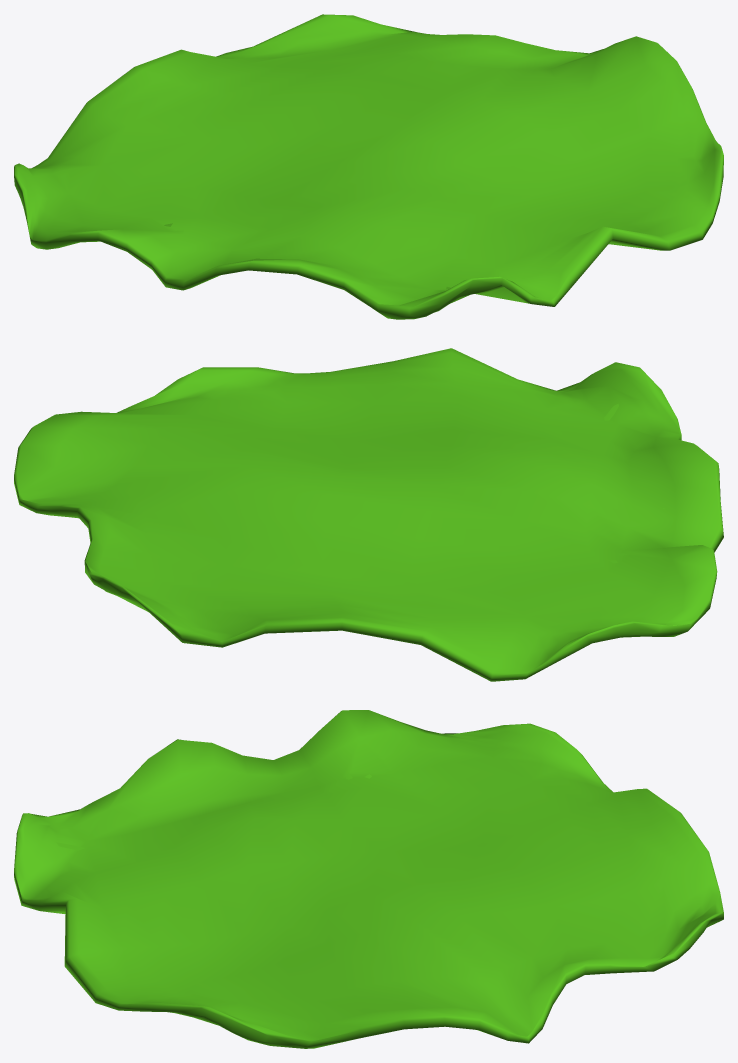
Rendered from salat.fbx.
3 renders of one model, top to bottom at view 1: azimuth 30°, elevation 25°; view 2: azimuth 150°, elevation 25°; view 3: azimuth 270°, elevation 25°, orthographic. The views are drawn at different scales.
Visible parts, largest first — view 1: Circle; view 2: Circle; view 3: Circle.
Part boxes in pixels (left/top/right/bottom): Circle: left=14, top=14, right=723, bottom=319; Circle: left=14, top=348, right=723, bottom=681; Circle: left=14, top=710, right=723, bottom=1048.
Bounding box in the file's own units: 89.04 × 8.19 × 82.15.
